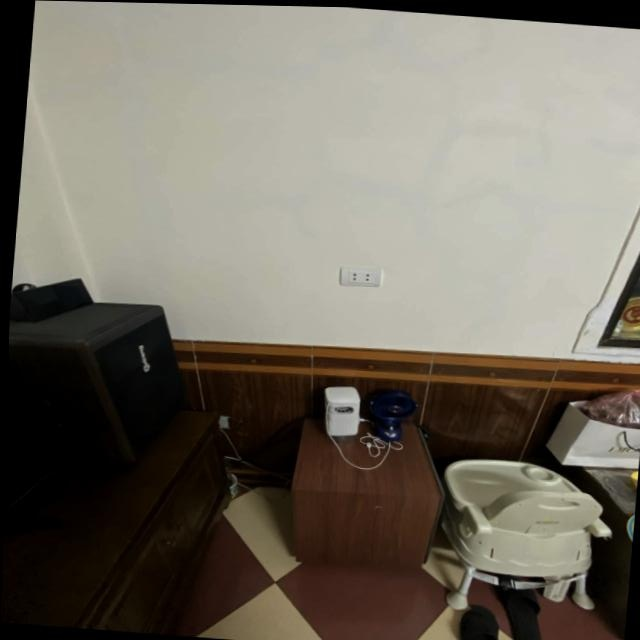outlet: (339, 267, 382, 289)
